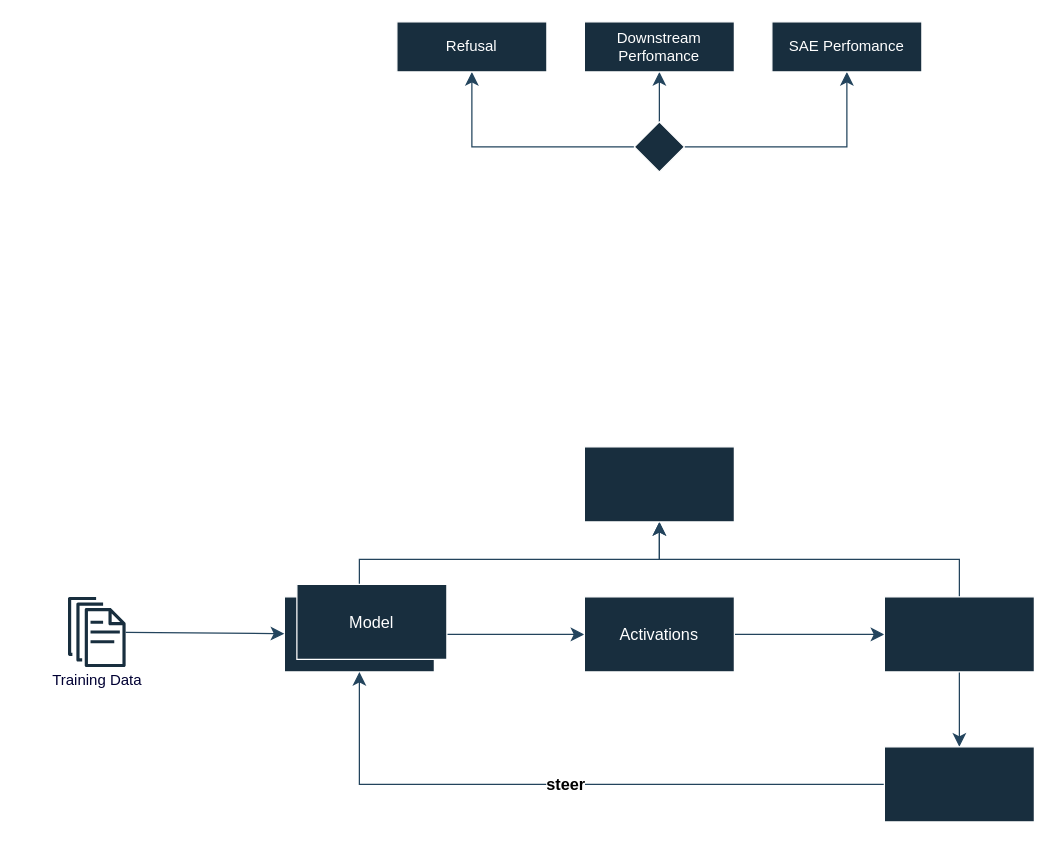
This 1056x844 diagram has some shape labels left out. The shapes that lost their labels are listed below. From the top down, each one's centre as x and y in pixels, then its label:
At point (658, 484): "Evaluation".
At point (958, 634): "SAE".
At point (958, 784): "Refusal Feature".
